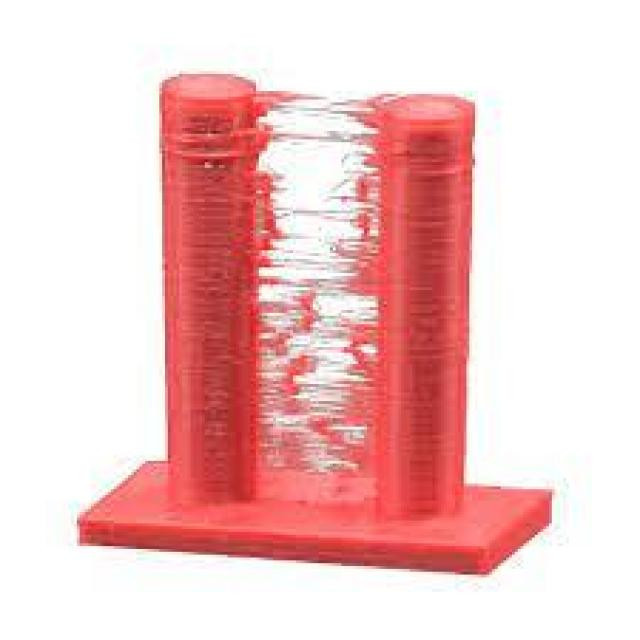spaghetti: (248, 86, 392, 490), (404, 107, 458, 490), (184, 101, 238, 479)
